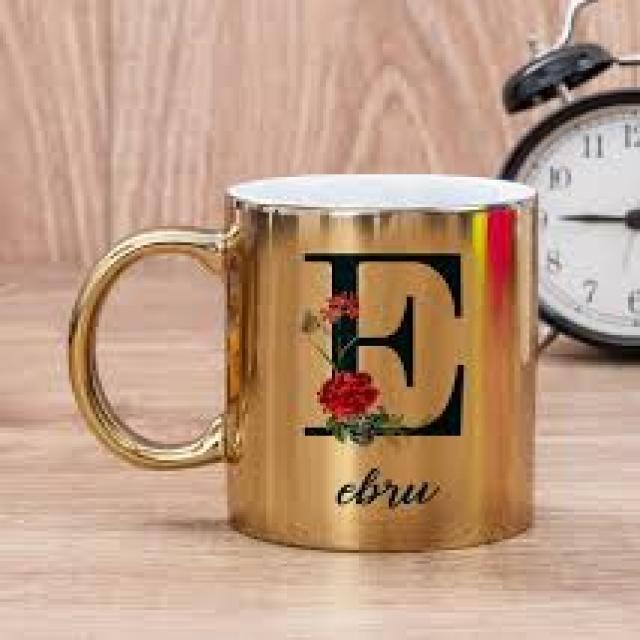taza: (66, 172, 538, 552)
